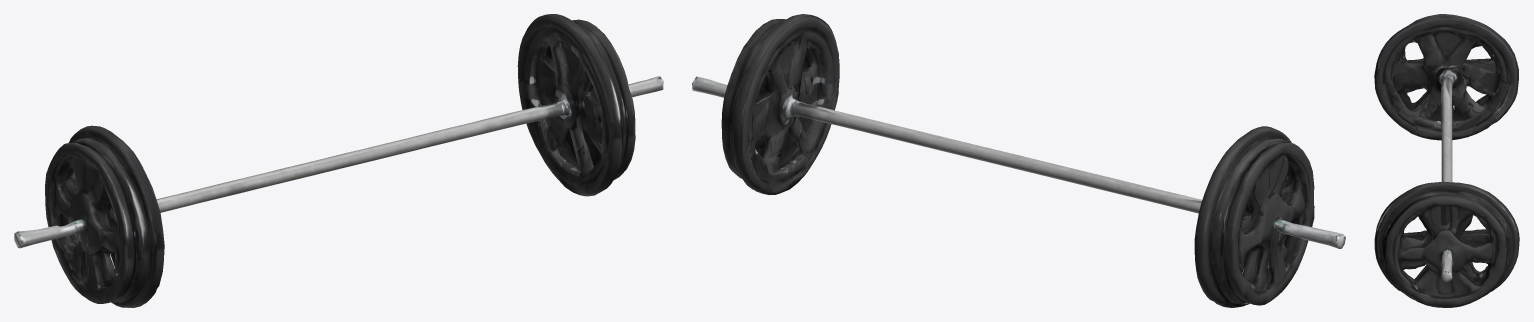
File: Barbell_Shadowplay_0601194428_texture.glb
3 renders of one model, left to right at view 1: azimuth 30°, elevation 25°; view 2: azimuth 150°, elevation 25°; view 3: azimuth 270°, elevation 25°, orthographic. The views are drawn at different scales.
Size of the model in its own units: 2 by 0.4953 by 0.5271.
Materials: 1 (1 with a texture image).
